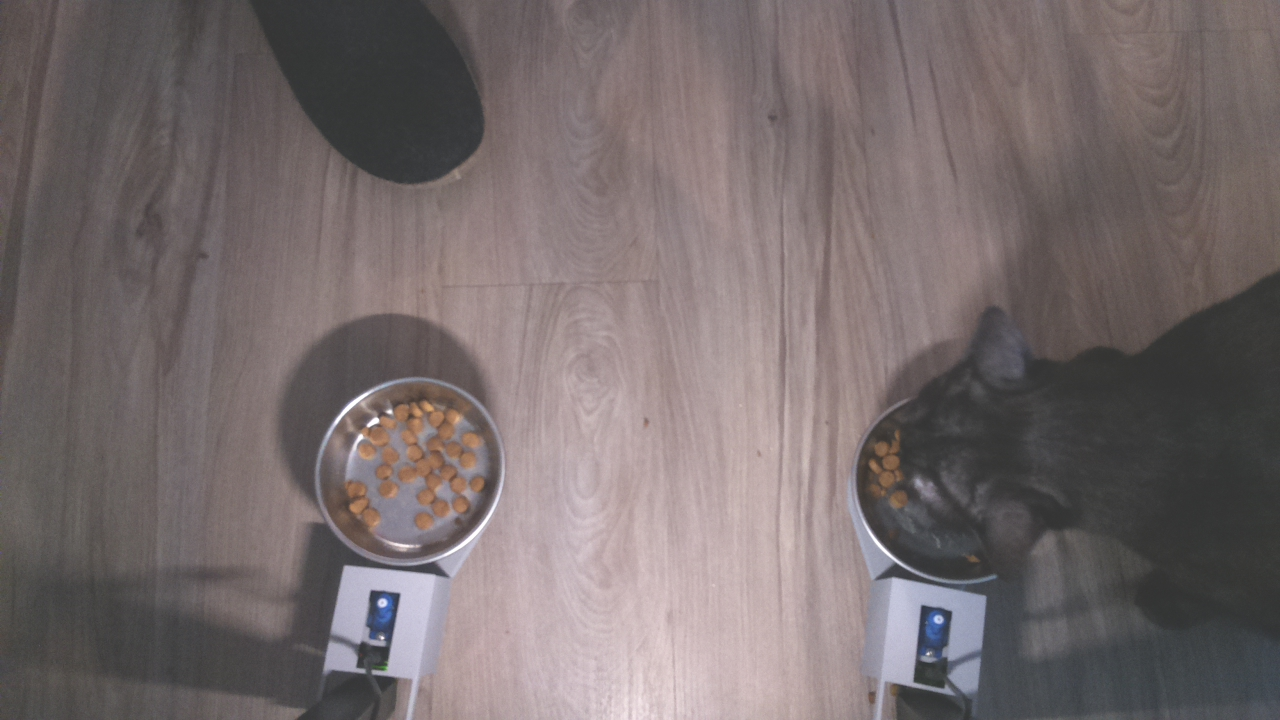open_bowl: (311, 375, 509, 568)
saki_eating: (848, 303, 1119, 594)
